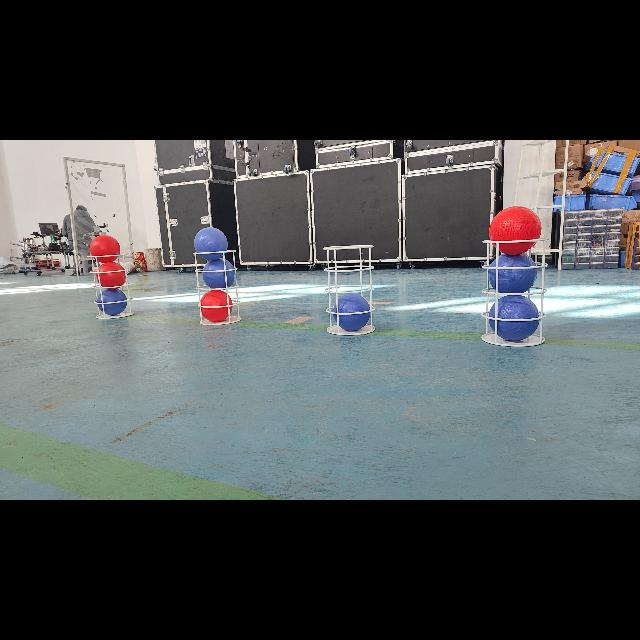B: (490, 294, 540, 342), (487, 252, 537, 294), (332, 294, 372, 332), (194, 227, 228, 260), (203, 258, 234, 290), (96, 287, 130, 315)
R: (489, 207, 543, 256), (200, 290, 232, 322), (90, 234, 122, 262), (94, 261, 126, 289)
S: (477, 235, 549, 351), (320, 242, 378, 336), (192, 248, 244, 326), (86, 252, 134, 322)
